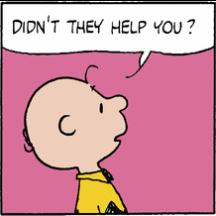charlie: (20, 61, 130, 215)
